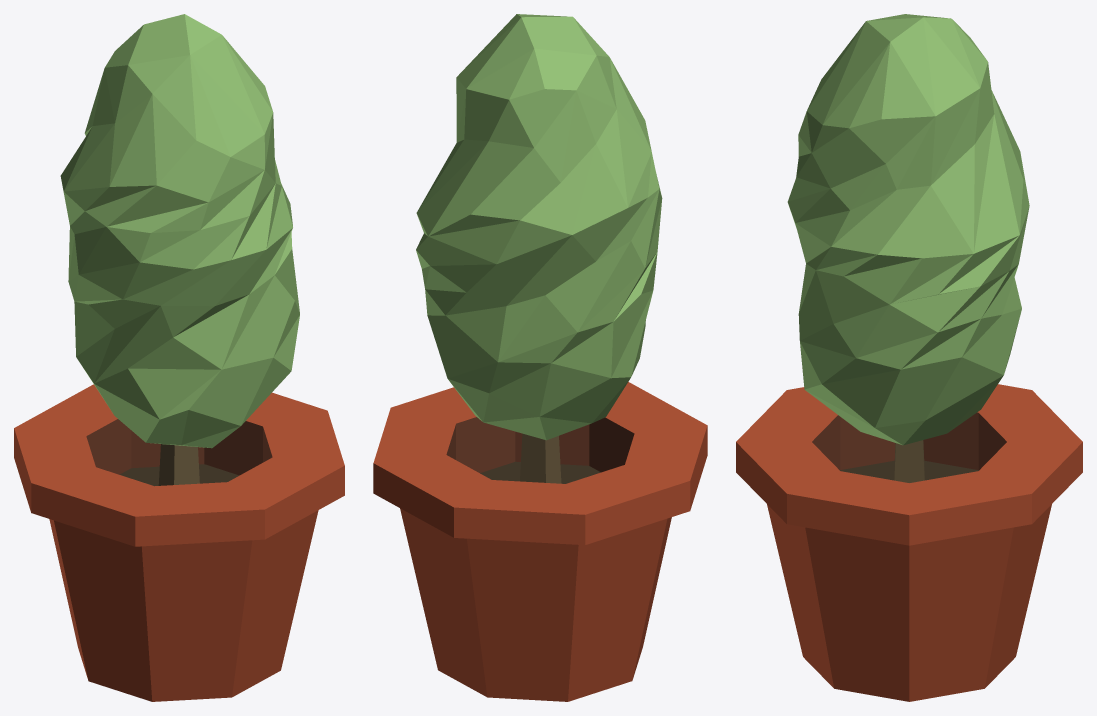
The model's file is Twisted Plant.fbx.
3 renders of one model, left to right at view 1: azimuth 30°, elevation 25°; view 2: azimuth 150°, elevation 25°; view 3: azimuth 270°, elevation 25°, orthographic.
Visible parts, largest first — view 1: twisted plant; view 2: twisted plant; view 3: twisted plant.
Part boxes in pixels (box(x1,y1,x2,y2)): twisted plant: box(14, 14, 344, 701); twisted plant: box(373, 14, 707, 701); twisted plant: box(736, 14, 1082, 701).
Bounding box in the file's own units: 96.72 × 199 × 96.72.
